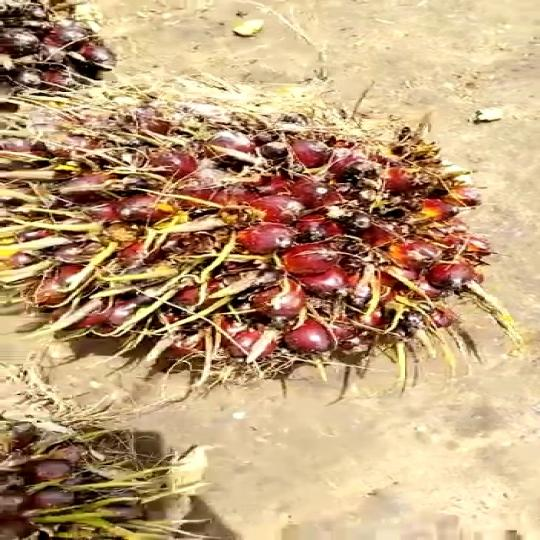masak: (0, 80, 496, 377)
